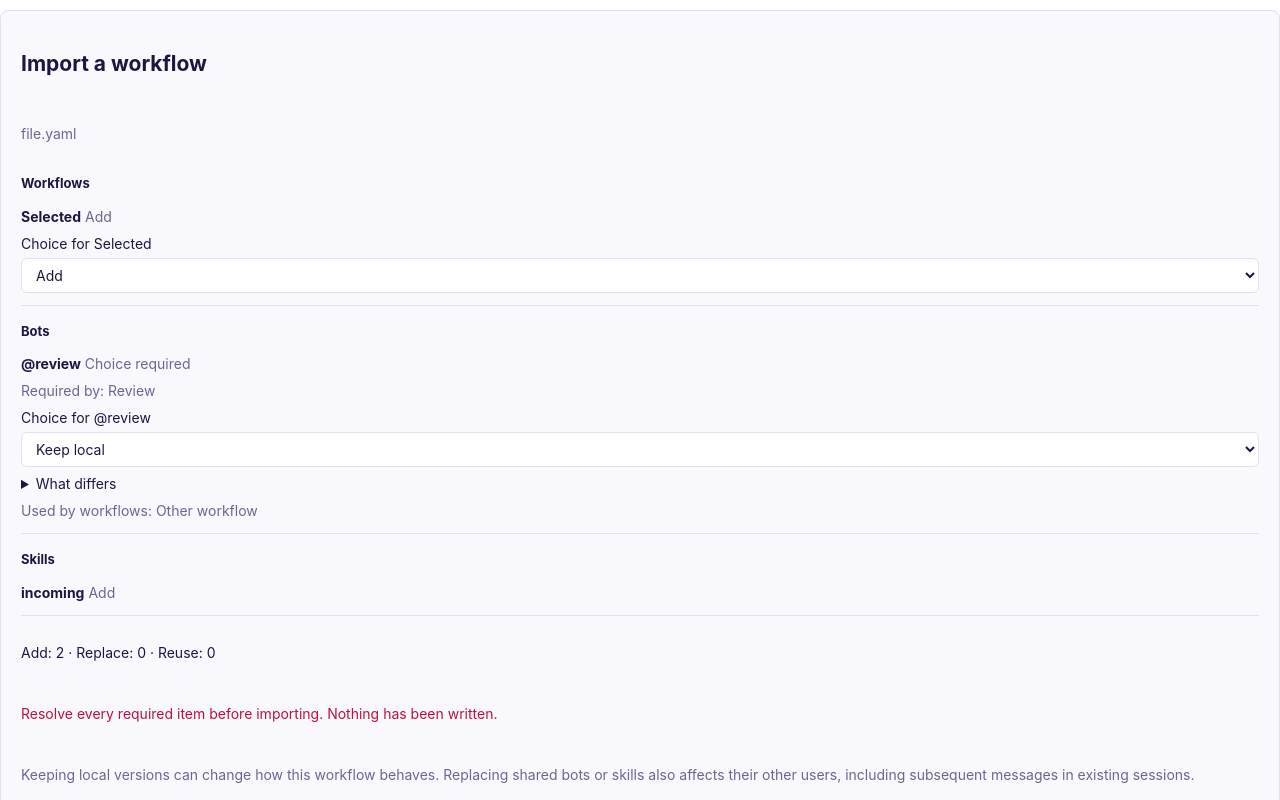
workflow import preview › requires individual decisions, recalculates dependencies, and submits the accepted token and choices
The width and height of the screenshot is (1280, 800).
Select "Keep local" in the dropdown named "Choice for @review": (640, 450) [21, 432, 1259, 467]
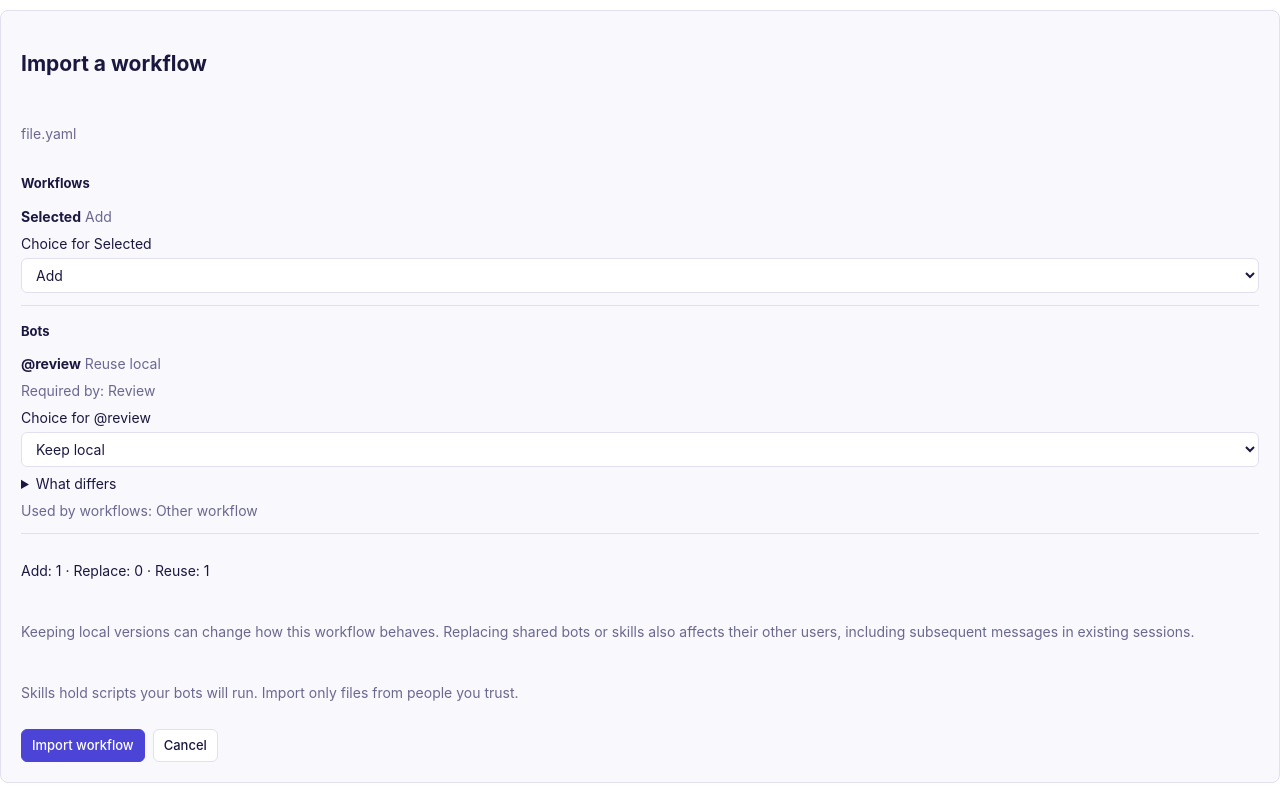
Now the text "incoming" is gone
Click the button "Import workflow": click(83, 745) [21, 729, 145, 762]
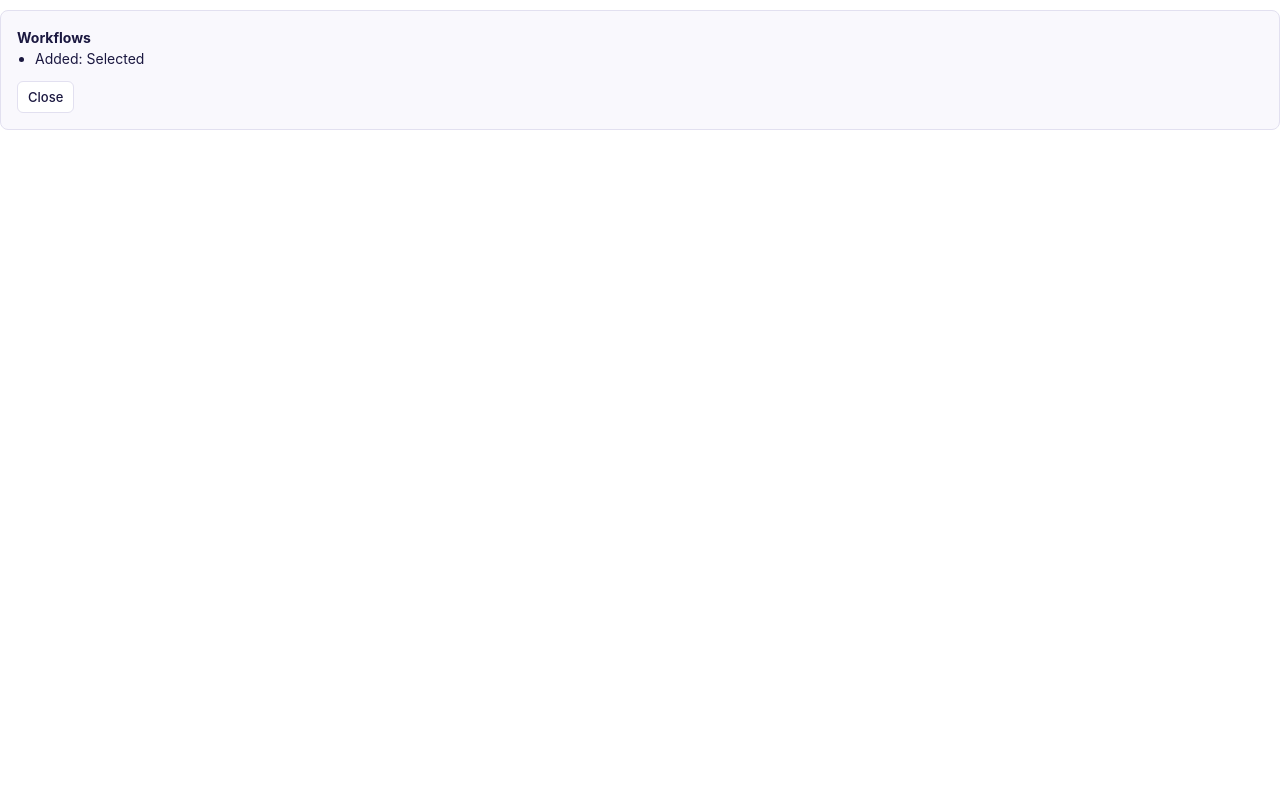
Now the text "Added: Selected" is shown, box [35, 50, 144, 67]
